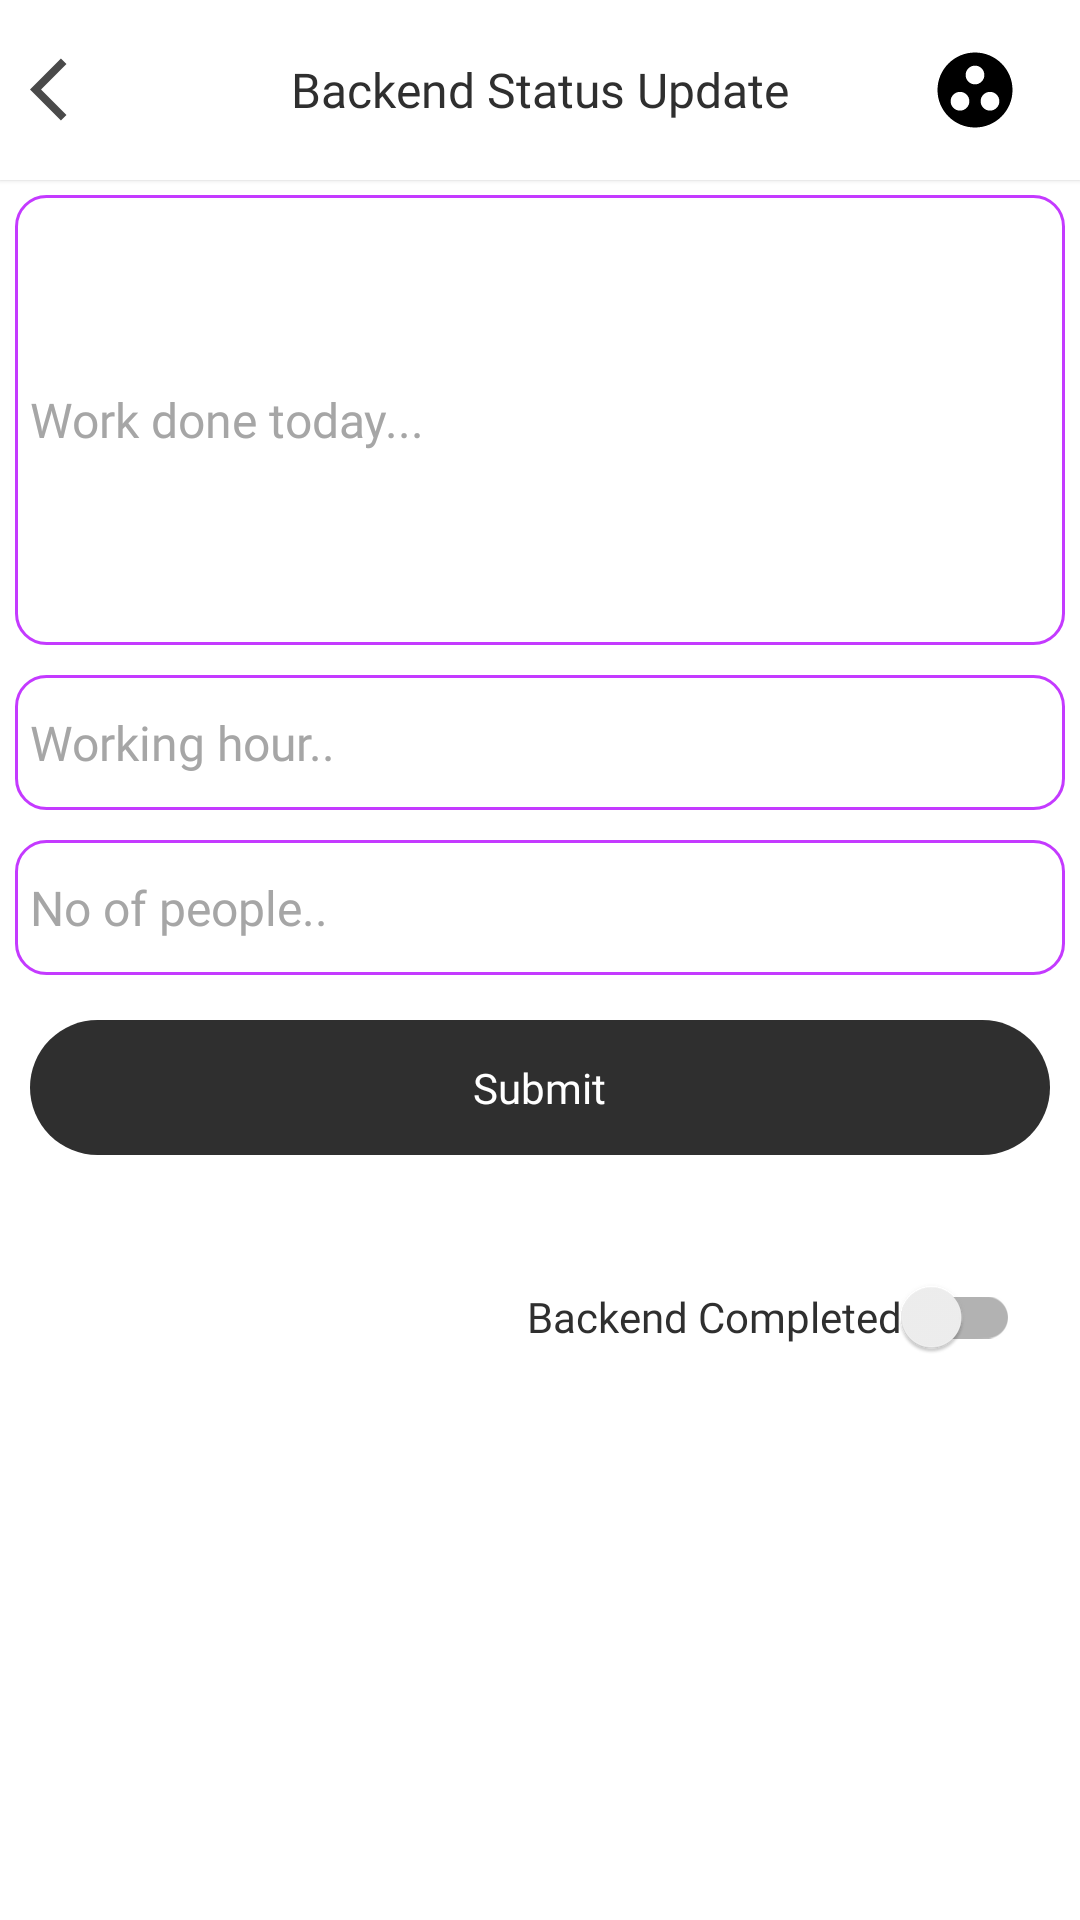

Icon bounding boxes for this 1080 × 1920 phone screenshot, format [x1, y1, x2, y2]:
arrow back: [30, 58, 66, 121]
group work: [937, 52, 1013, 128]
